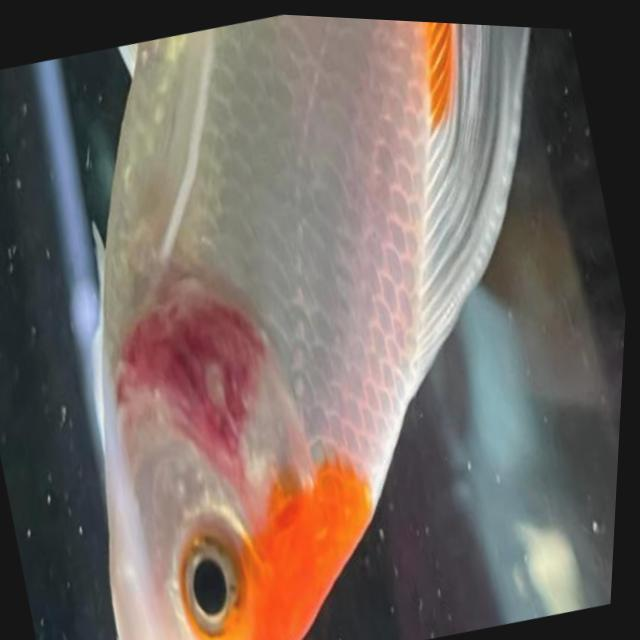Gill Disease: (97, 186, 396, 640)
